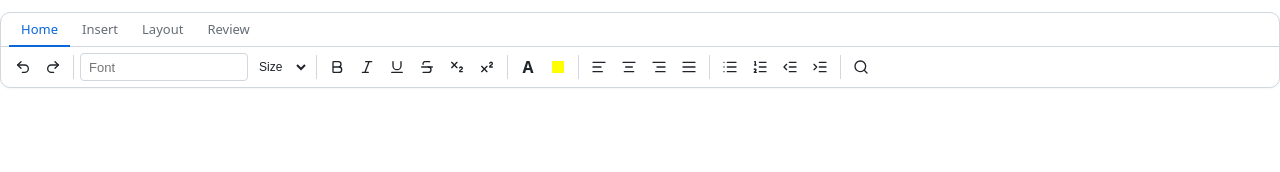
it: Toolbar › switches tabs in uncontrolled mode
This screenshot has width=1280, height=172.
Note: Switch to Insert tab
Click the tab "Insert" at {"x": 100, "y": 30}, box left=70, top=13, right=130, bottom=47
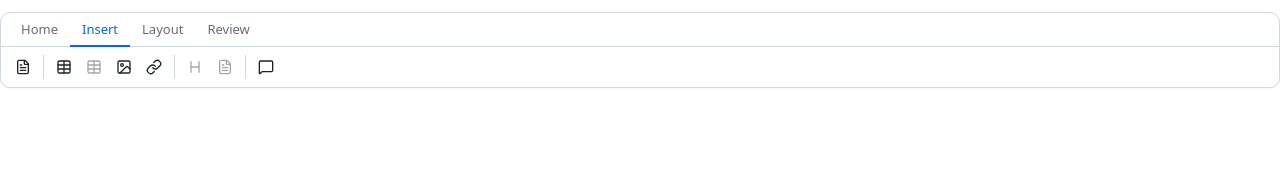
Now the button titled "Page Break" is shown, box left=9, top=53, right=37, bottom=81
Now the button titled "Undo" is gone
